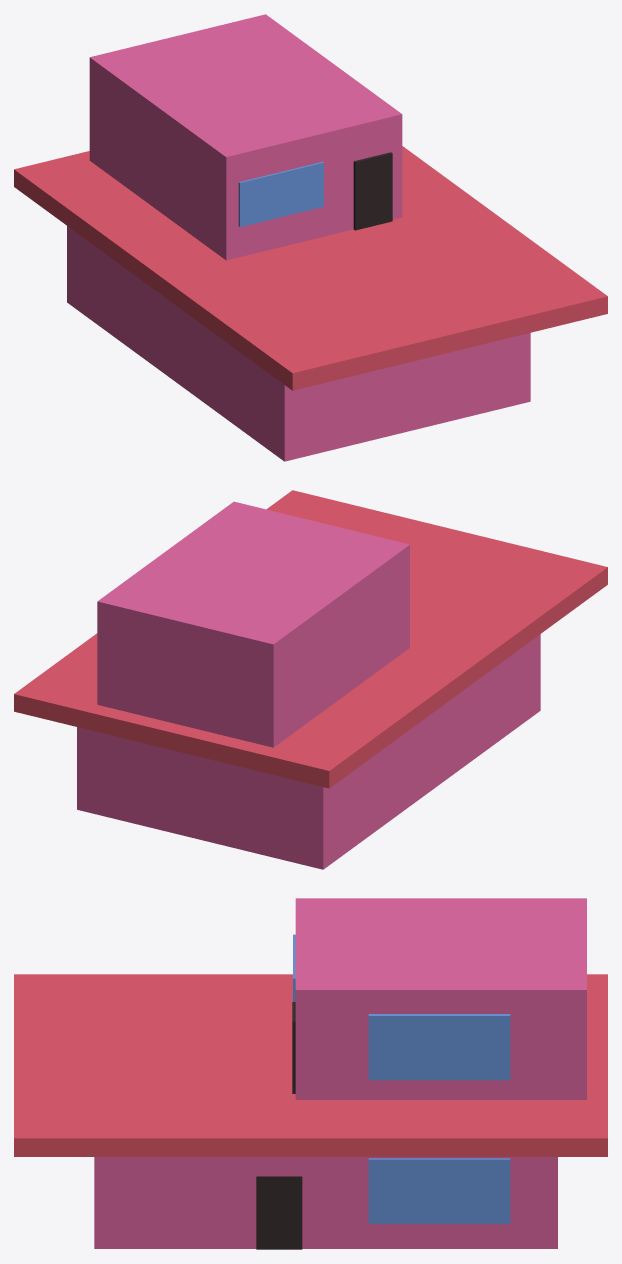
Rendered from House_Pink.fbx.
3 renders of one model, top to bottom at view 1: azimuth 30°, elevation 25°; view 2: azimuth 150°, elevation 25°; view 3: azimuth 270°, elevation 25°, orthographic. The views are drawn at different scales.
Visible parts, largest first — view 1: Cube.013, Cube.014, Cube.012, Window_1.011, Door_1.006; view 2: Cube.014, Cube.013, Cube.012; view 3: Cube.013, Cube.014, Cube.012, Window_1.012, Window_1.010, Door_1.004.
Boxes of the visible parts, x1,y1,x2,y2 form: Cube.013: (14, 146, 607, 390); Cube.014: (89, 14, 402, 260); Cube.012: (67, 226, 530, 461); Window_1.011: (238, 161, 323, 226); Door_1.006: (353, 152, 392, 230); Cube.014: (97, 501, 409, 747); Cube.013: (14, 490, 607, 788); Cube.012: (77, 634, 540, 869); Cube.013: (14, 974, 607, 1156); Cube.014: (295, 898, 586, 1099); Cube.012: (94, 1157, 557, 1248); Window_1.012: (368, 1014, 510, 1080); Window_1.010: (368, 1158, 510, 1223); Door_1.004: (256, 1176, 302, 1249).
Bounding box in the file's own units: 3039 × 2086 × 4649.
